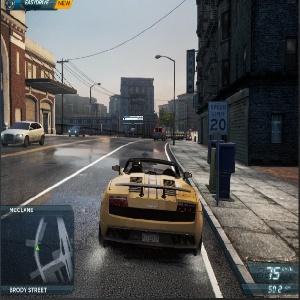building: (117, 75, 156, 125)
electrical pole: (55, 54, 70, 136)
lamp post: (156, 53, 184, 146), (87, 75, 103, 134)
mailbox: (209, 139, 235, 202)
road sign: (207, 101, 228, 204)
tree: (159, 104, 178, 131)
vehicle: (1, 119, 45, 149), (68, 124, 88, 139), (152, 125, 166, 142)
